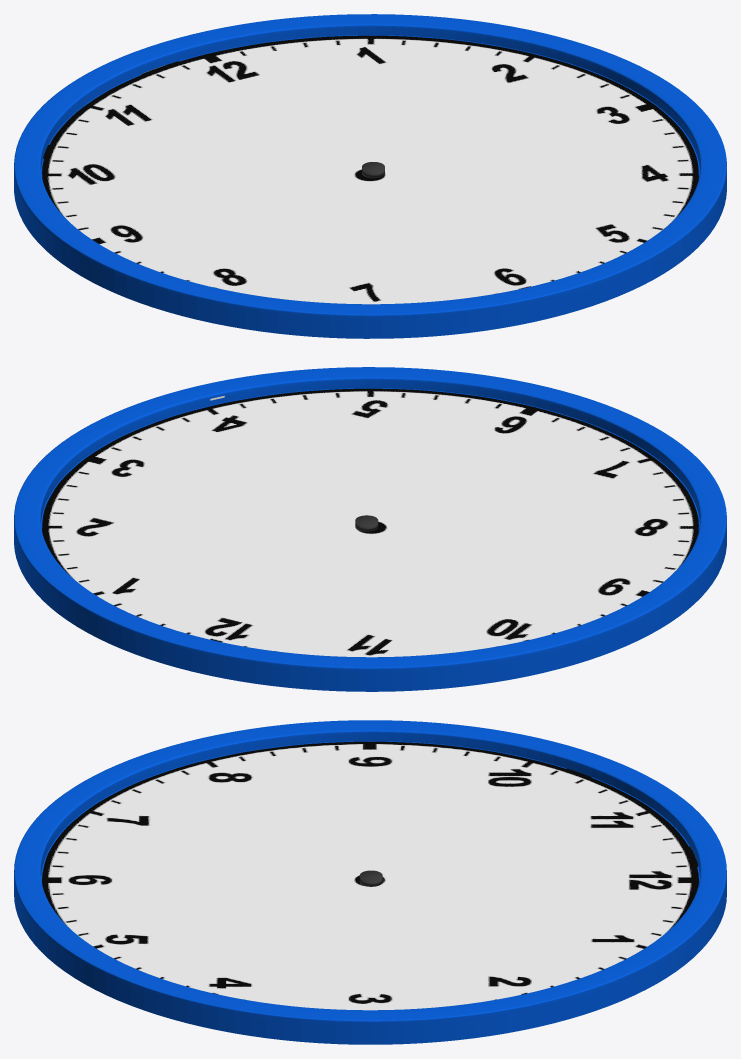
The model's file is horloge1.dae.
3 views of the same model, one above another, from view 1: azimuth 30°, elevation 25°; view 2: azimuth 150°, elevation 25°; view 3: azimuth 270°, elevation 25° (orthographic).
Parts seen in each view (by area): view 1: Cylinder; view 2: Cylinder; view 3: Cylinder.
Boxes of the visible parts, x1,y1,x2,y2 form: Cylinder: (14,14,726,338); Cylinder: (14,367,726,691); Cylinder: (14,720,726,1044).
Bounding box in the file's own units: 2.74 × 2.74 × 0.107.
3 materials, 1 textured.
